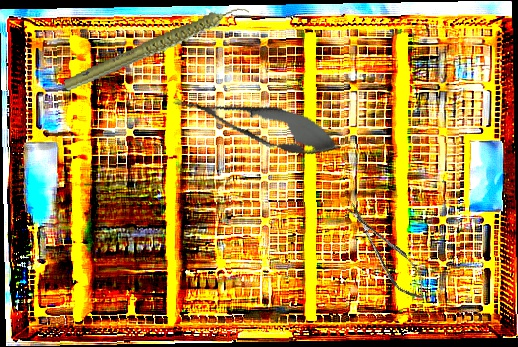Handpiece: (56, 4, 258, 93)
Micro Scissor: (166, 79, 348, 168), (340, 195, 433, 307)
